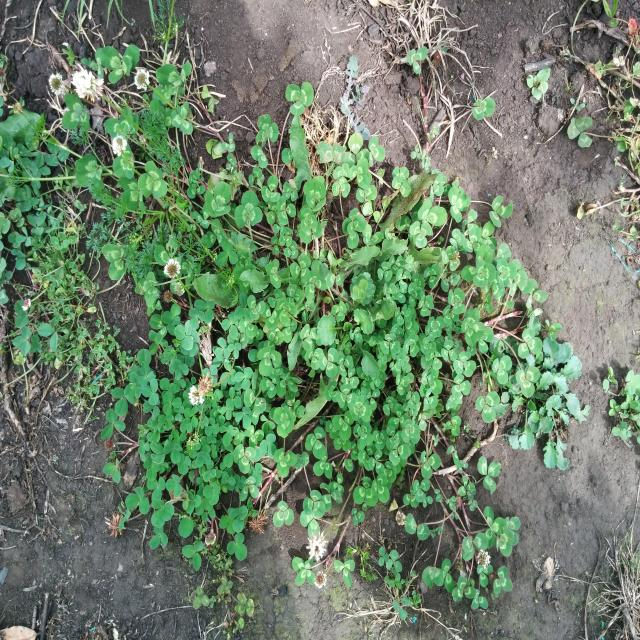Four Leaf Clover: (461, 308, 486, 345), (292, 557, 316, 585)
